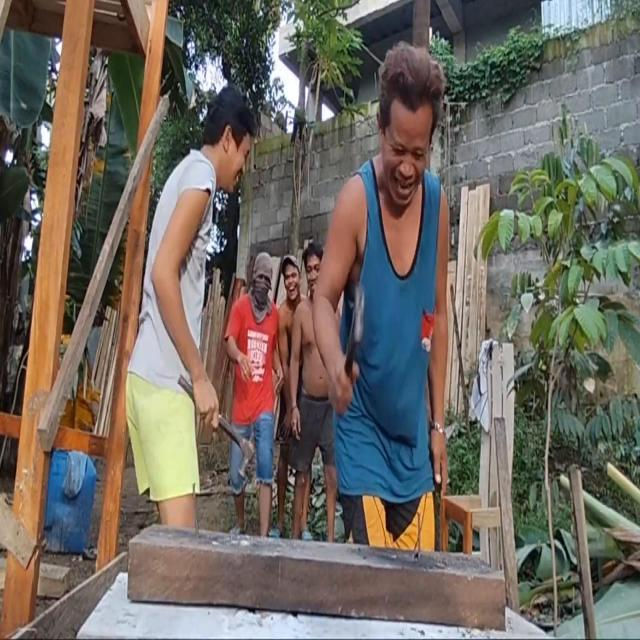hammer: (344, 286, 366, 375)
